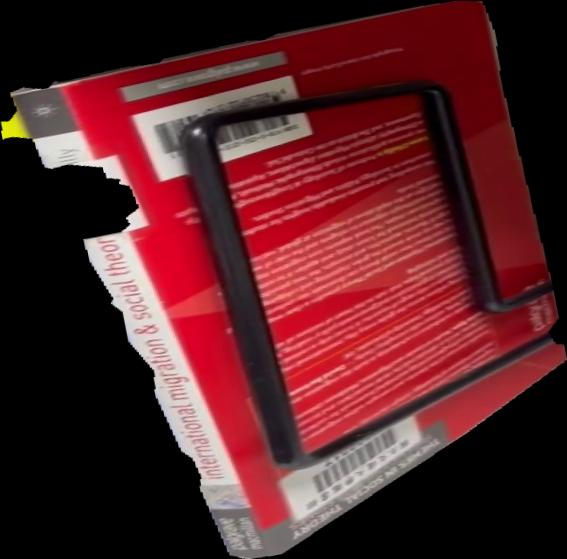reverse: (1, 1, 567, 559)
